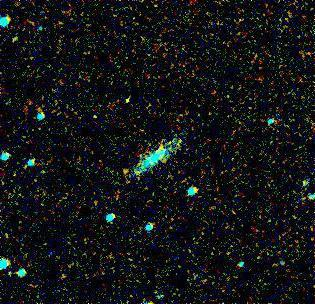star: (110, 156, 140, 186)
